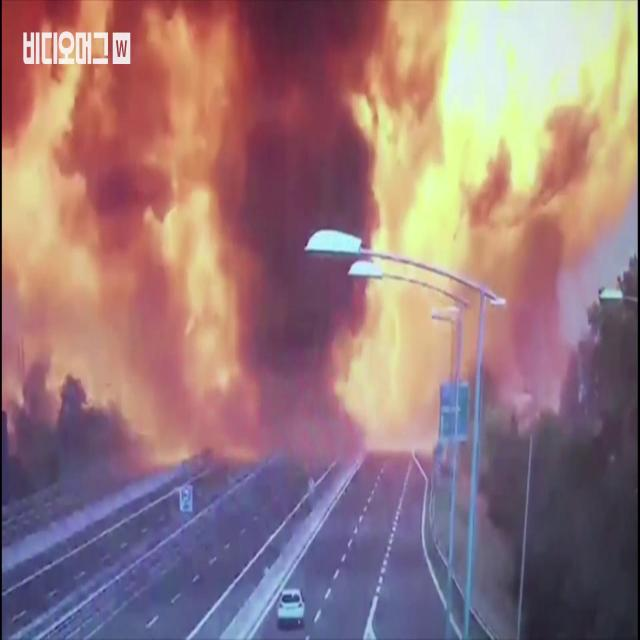explosion: (1, 4, 640, 540)
